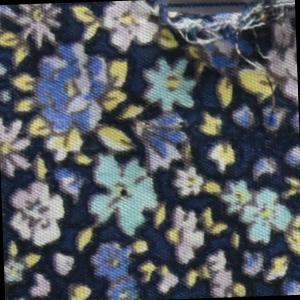Damage: (144, 1, 300, 146)
